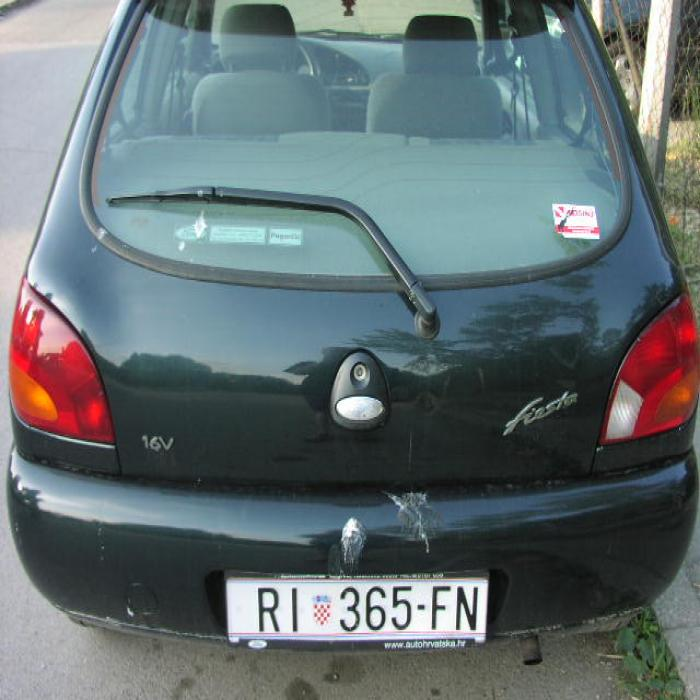number_plate: (226, 579, 484, 636)
